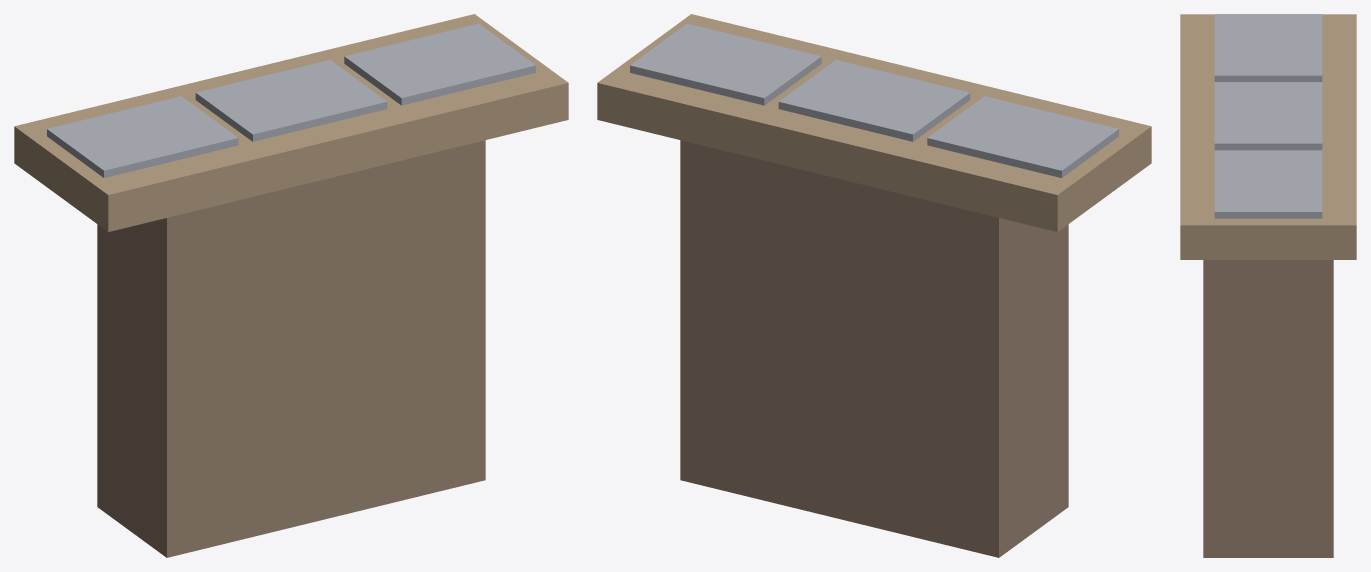
The model's file is binding-lectern.gltf.
3 views of the same model, side by side, from view 1: azimuth 30°, elevation 25°; view 2: azimuth 150°, elevation 25°; view 3: azimuth 270°, elevation 25° (orthographic). The views are drawn at different scales.
Visible parts, largest first — view 1: Pillar, Desk, Socket2, Socket3, Socket1; view 2: Pillar, Desk, Socket2, Socket3, Socket1; view 3: Pillar, Desk, Socket3, Socket2, Socket1.
Boxes of the visible parts, x1=… form: Pillar: x1=97, y1=140, x2=485, y2=557; Desk: x1=14, y1=14, x2=568, y2=231; Socket2: x1=195, y1=60, x2=387, y2=141; Socket3: x1=344, y1=23, x2=535, y2=105; Socket1: x1=47, y1=96, x2=238, y2=177; Pillar: x1=680, y1=140, x2=1068, y2=557; Desk: x1=597, y1=14, x2=1151, y2=231; Socket2: x1=778, y1=60, x2=970, y2=141; Socket3: x1=630, y1=23, x2=821, y2=105; Socket1: x1=927, y1=96, x2=1118, y2=177; Pillar: x1=1203, y1=260, x2=1333, y2=557; Desk: x1=1180, y1=14, x2=1356, y2=259; Socket3: x1=1214, y1=150, x2=1322, y2=218; Socket2: x1=1214, y1=82, x2=1322, y2=150; Socket1: x1=1214, y1=14, x2=1322, y2=81.
Size of the model in its own units: 1.3 by 1.07 by 0.46.
